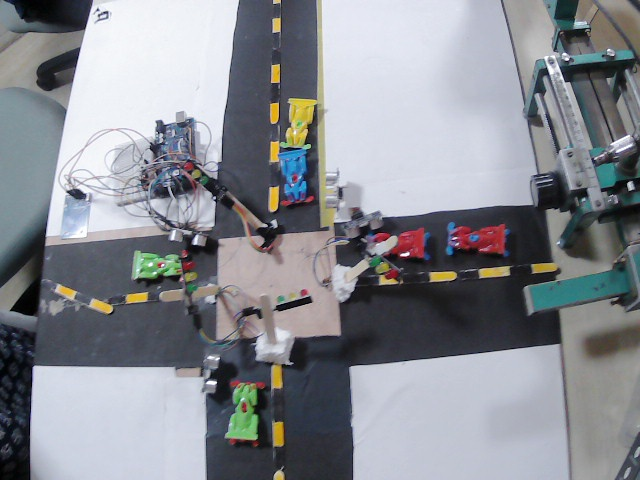aruco_marker: (92, 4, 118, 28)
black_strip: (267, 388, 288, 418), (268, 32, 288, 61), (267, 444, 288, 468), (150, 292, 181, 307), (267, 159, 280, 189), (397, 274, 427, 285), (509, 262, 531, 277), (265, 84, 283, 102), (267, 122, 285, 139), (454, 269, 481, 280), (266, 7, 286, 21), (40, 276, 56, 293), (75, 288, 90, 305), (112, 287, 123, 309), (358, 274, 374, 288)
car: (222, 375, 269, 450), (276, 146, 320, 203), (448, 217, 500, 264), (128, 247, 180, 288), (282, 90, 314, 147), (370, 231, 429, 258)
mixed_lane: (359, 259, 558, 291), (262, 0, 288, 211), (62, 282, 202, 313), (262, 358, 290, 480)
traffic_light: (346, 206, 397, 255), (182, 156, 218, 197), (178, 260, 204, 308), (273, 288, 312, 312)
uno_breadboard: (151, 111, 202, 202), (111, 137, 160, 210), (60, 191, 92, 240), (319, 169, 345, 213), (199, 349, 220, 399)
yellow_strip: (427, 267, 457, 282), (267, 420, 285, 444), (531, 260, 559, 275), (93, 294, 113, 314), (479, 265, 511, 277), (268, 363, 284, 387), (266, 189, 281, 213), (125, 291, 151, 303), (375, 276, 396, 288), (268, 103, 280, 123), (58, 284, 76, 297), (265, 0, 287, 10), (267, 18, 285, 30), (270, 64, 282, 81), (268, 141, 279, 159), (270, 469, 286, 480)
